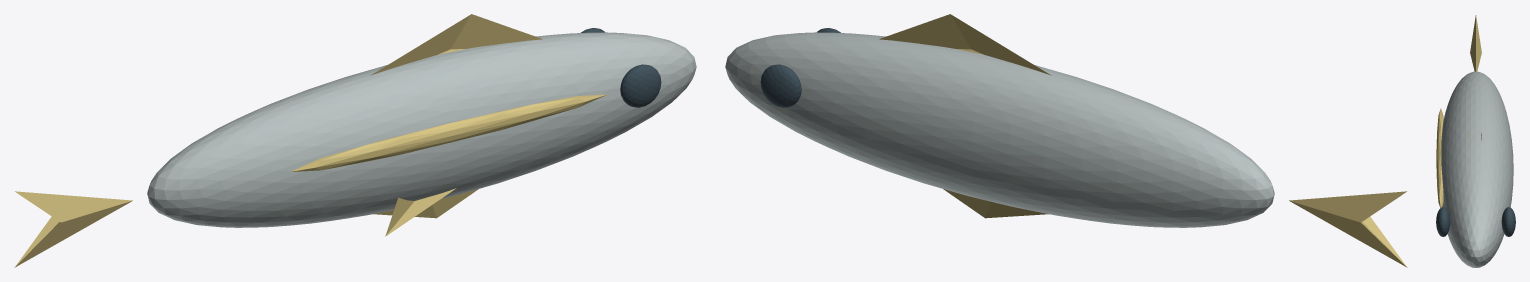
Rendered from Ikan_Selar_Kuning.glb.
The picture shows the model from 3 angles, left to right: view 1: azimuth 30°, elevation 25°; view 2: azimuth 150°, elevation 25°; view 3: azimuth 270°, elevation 25°; orthographic projection. The views are drawn at different scales.
Visible parts, largest first — view 1: Part_00, Part_07, Part_01, Part_02, Part_05, Part_04, Part_03; view 2: Part_00, Part_01, Part_02, Part_06, Part_03; view 3: Part_00, Part_07, Part_01, Part_05, Part_06.
Boxes of the visible parts, box(x1,y1,x2,y2) form: Part_00: box(147, 32, 696, 227); Part_07: box(290, 94, 606, 171); Part_01: box(14, 191, 132, 267); Part_02: box(370, 14, 542, 75); Part_05: box(620, 64, 661, 107); Part_04: box(385, 188, 456, 236); Part_03: box(373, 189, 478, 218); Part_00: box(725, 32, 1274, 227); Part_01: box(1289, 191, 1407, 267); Part_02: box(879, 14, 1051, 75); Part_06: box(760, 64, 801, 107); Part_03: box(943, 189, 1048, 218); Part_00: box(1441, 71, 1513, 267); Part_07: box(1436, 108, 1443, 207); Part_01: box(1470, 15, 1481, 71); Part_05: box(1436, 207, 1450, 236); Part_06: box(1501, 207, 1515, 236).
Size of the model in its own units: 1.3 by 0.3575 by 0.2013.
